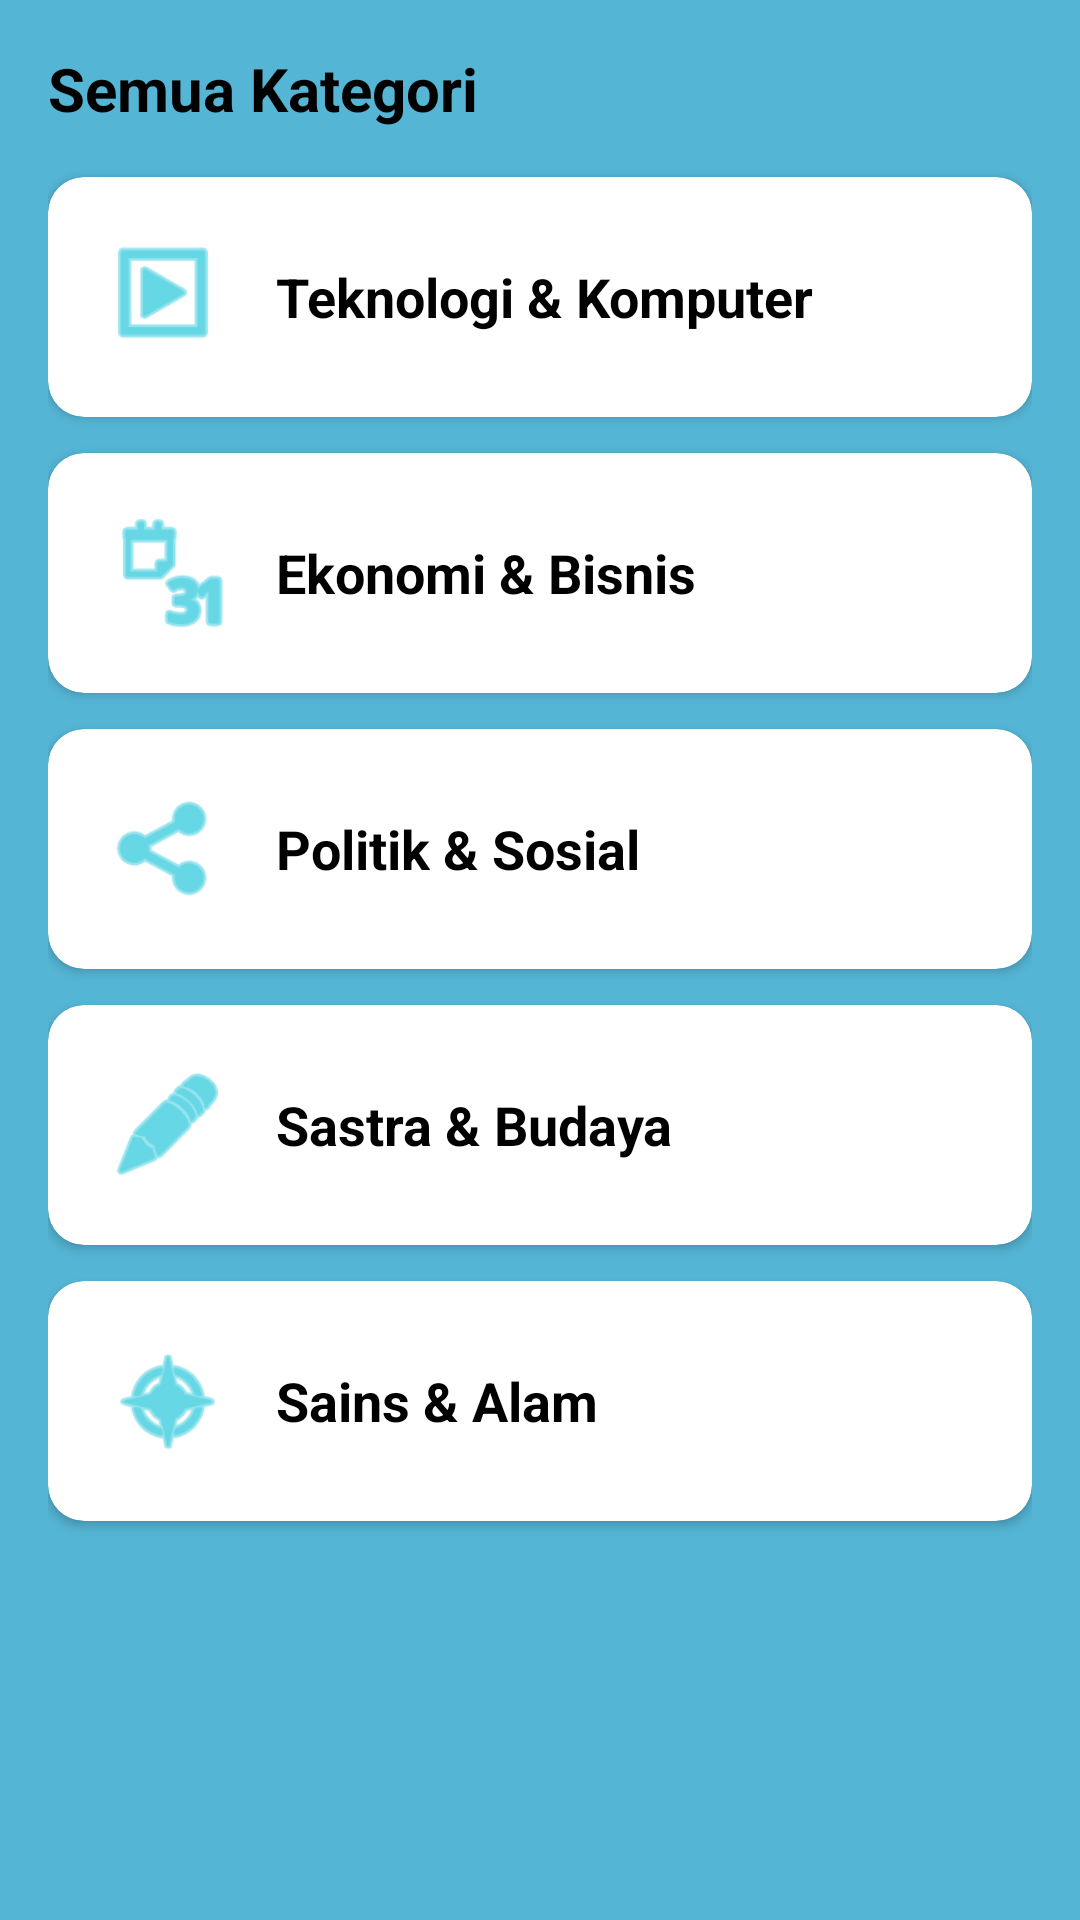

Icons on this 1080×1920 Android screen, each with the point to tap as point (x, y):
compass: point (167, 1401)
edit: point (167, 1124)
month: point (172, 573)
share: point (162, 848)
slideshow: point (163, 292)
